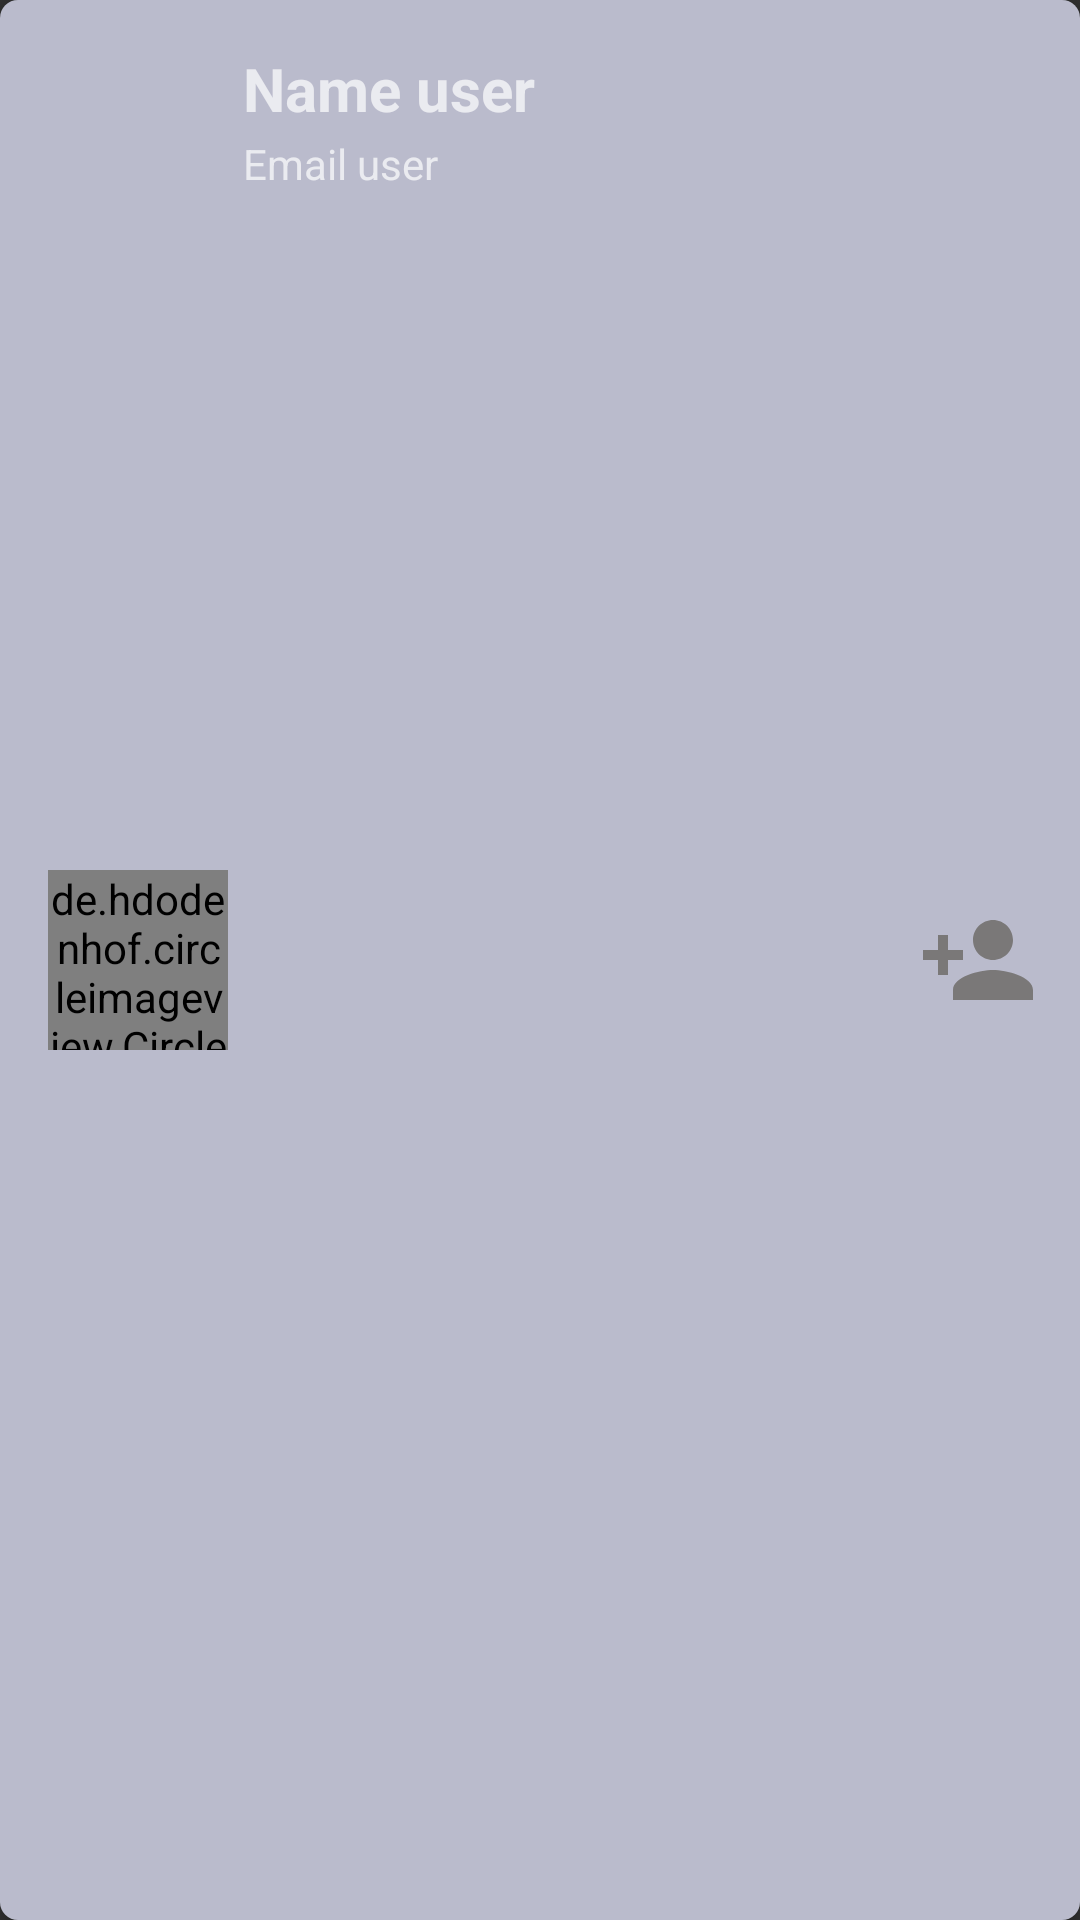

Named icons in this screenshot (1080px×1920px) and their bounding boxes, bbox=(x1, y1, x2, y2):
add person: bbox=(923, 920, 1033, 1000)
